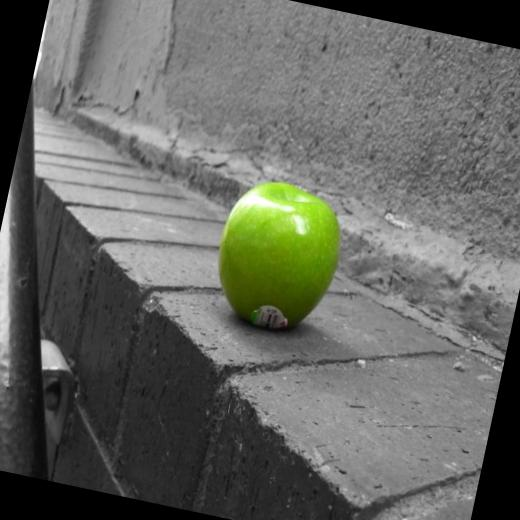Apple: (202, 170, 348, 337)
